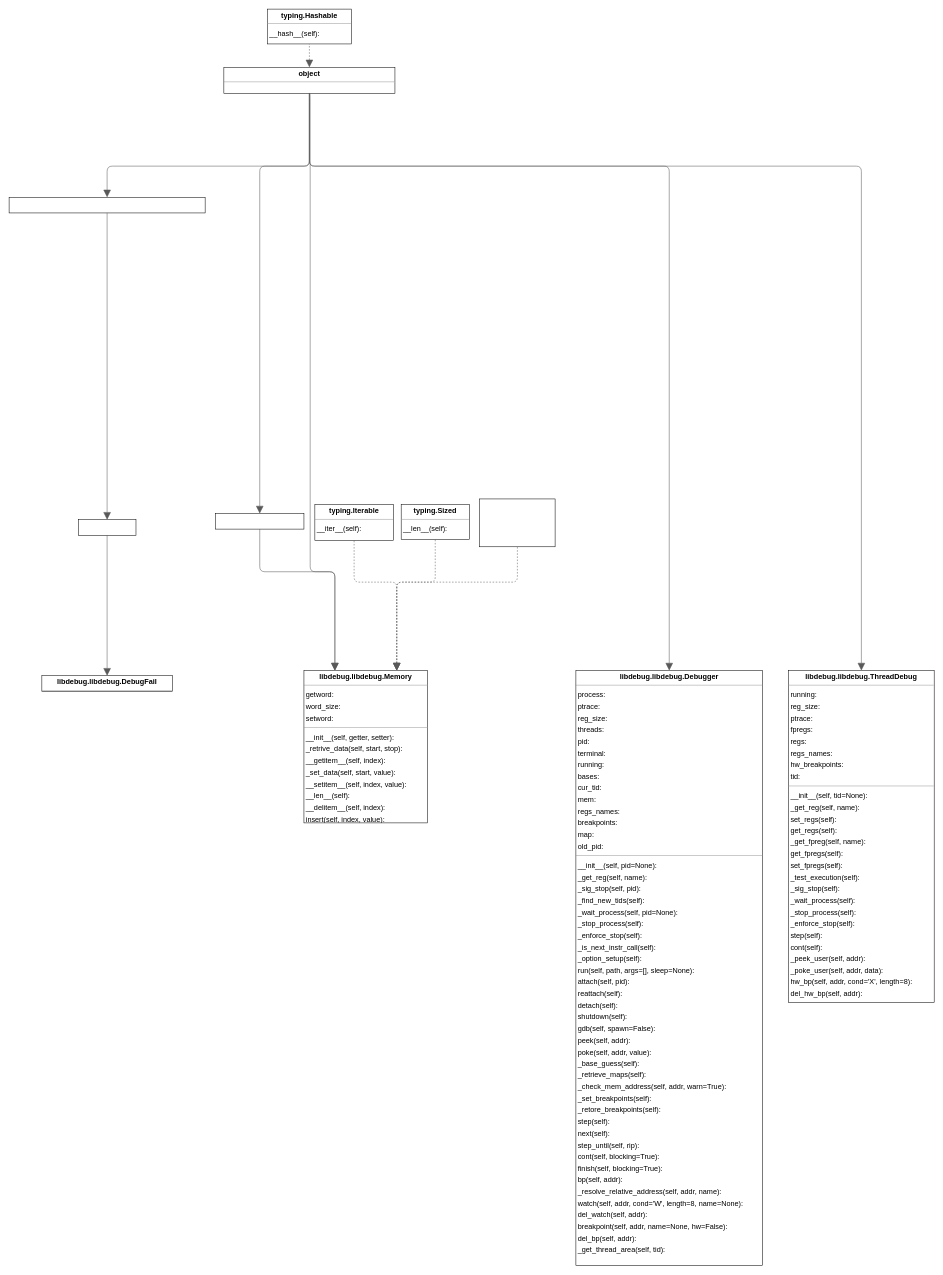
The diagram is 943 pixels wide and 1275 high, and some of its shapes have lost their labels. The shapes that lost their labels are listed below. From the top down, each one's box as (x1, y1, x2, y2) in pixels, then its label:
(9, 197, 205, 213): BaseException
(78, 519, 136, 535): Exception
(215, 513, 304, 529): MutableSequence
(479, 498, 555, 547): typing.Iterator __next__(self): __iter__(self):
